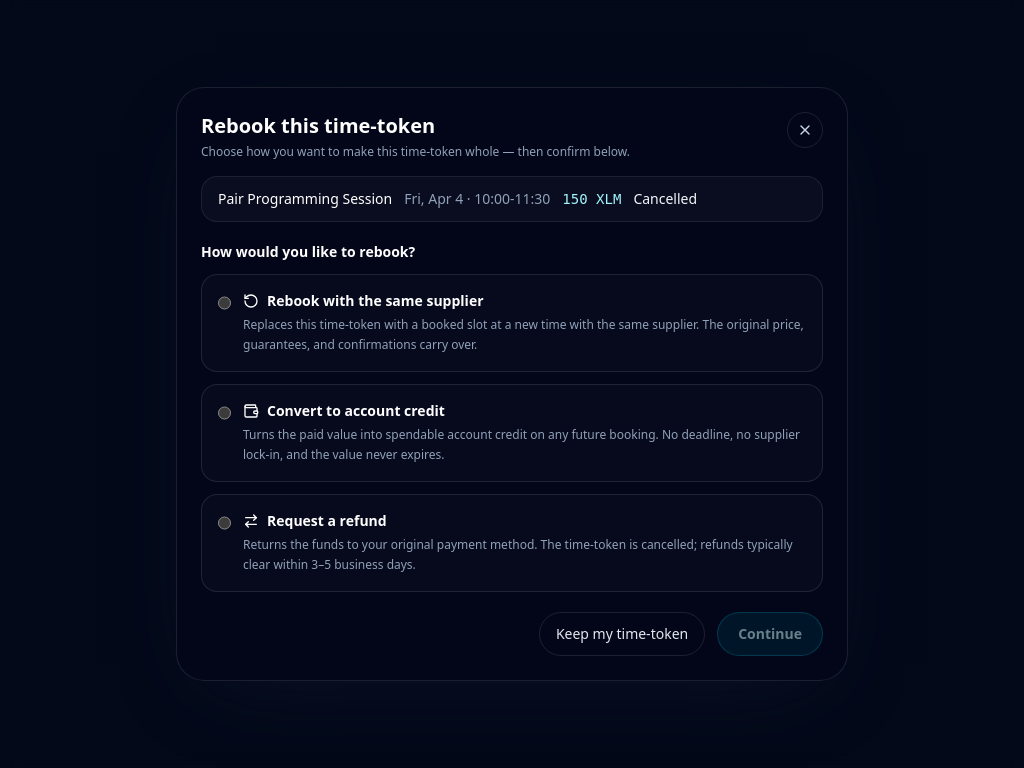
Test: RebookingDialog › shows a proximity label and price on each alternative
Step 1. Click the radio button labelled "Rebook with the same supplier" → (224, 303), box [218,295,231,311]
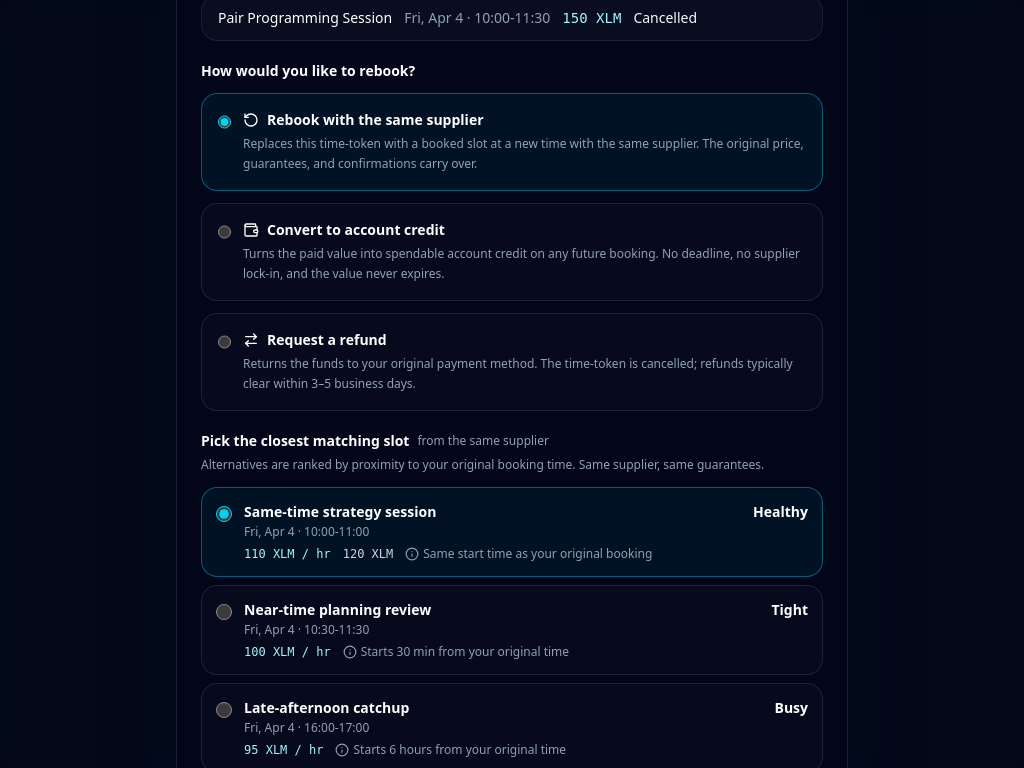
Check: the text "Same start time as your original booking" is shown, box [405,546,652,562]
Check: the text "Starts 30 min from your original time" is shown, box [343,644,569,660]
Check: the text "120 XLM" is shown, box [343,546,393,562]
